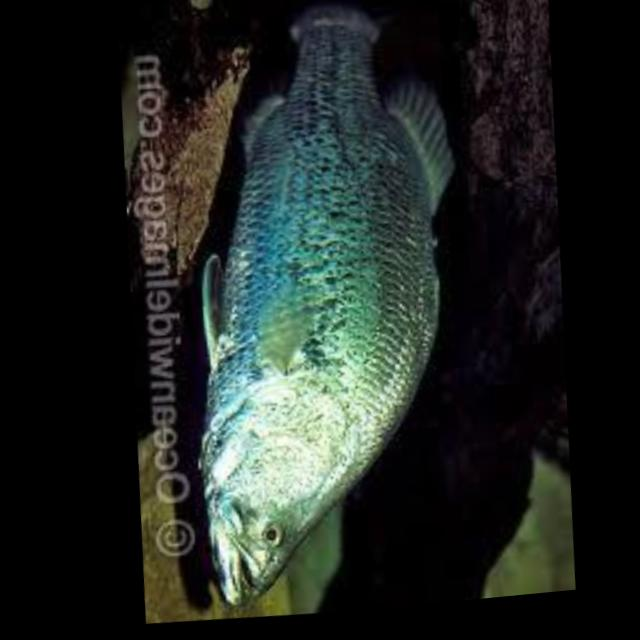Seabass: (161, 0, 502, 617)
